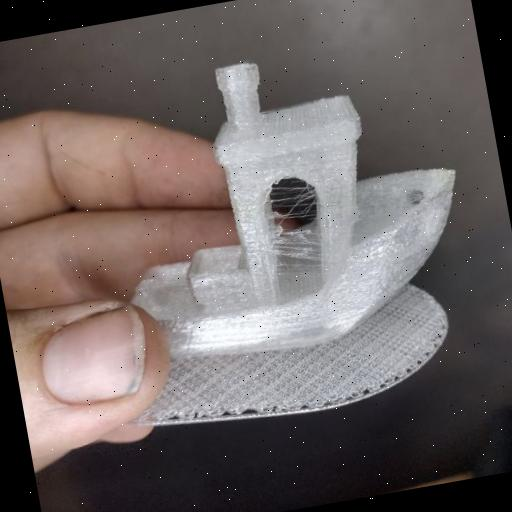stringing: (260, 173, 330, 263)
